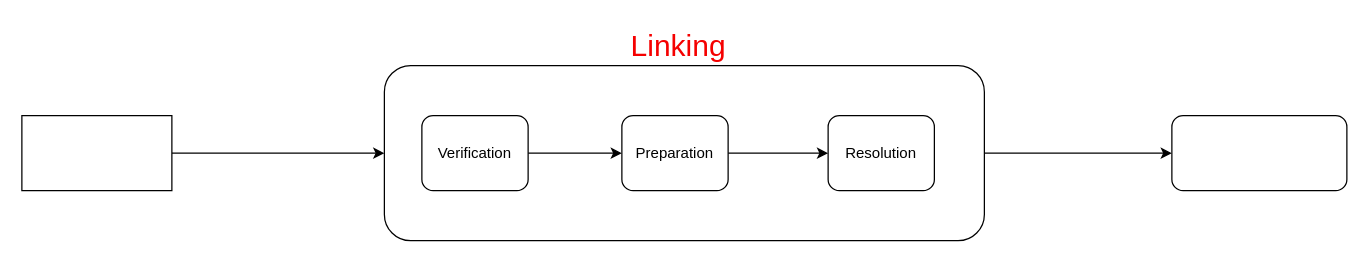
Some shapes in this 1369 by 263 pixel diagram are drawn without their labels. Each missing label, with the box of its shape:
Initialization: (1171, 114, 1347, 191)
Load: (21, 114, 172, 191)
